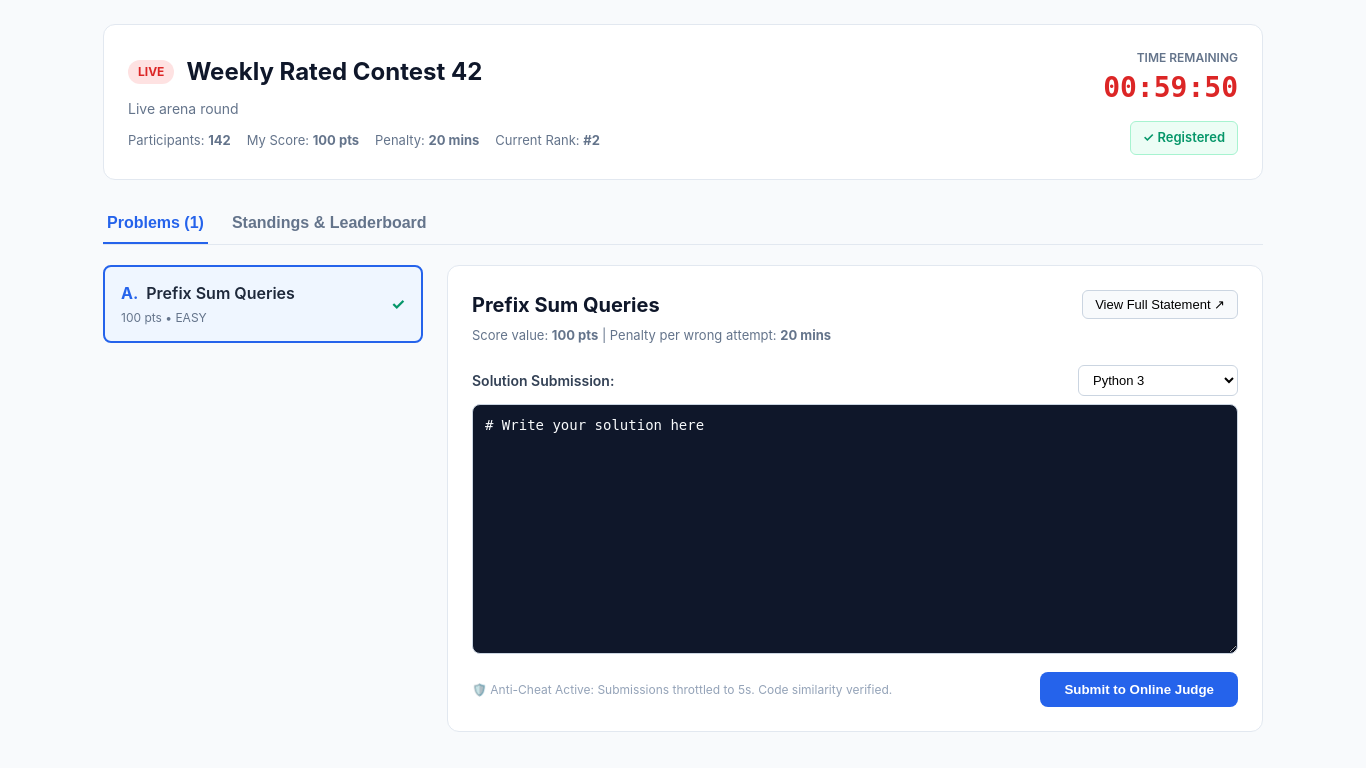
Test case: DSAapp Phase 8 Contests, Interview, CP, SQL & OOP UI › renders ContestDetailPage with problem list, countdown timer, and standings
Expected: the text "Prefix Sum Queries" is shown, [146,282,295,302]
Expected: the text "Score value: 100 pts | Penalty per wrong attempt: 20 mins" is shown, [472,326,831,345]
Note: Check switching to Standings tab
Step 1. Click the button "Standings & Leaderboard" → coordinates (329, 224), box [228,204,431,244]
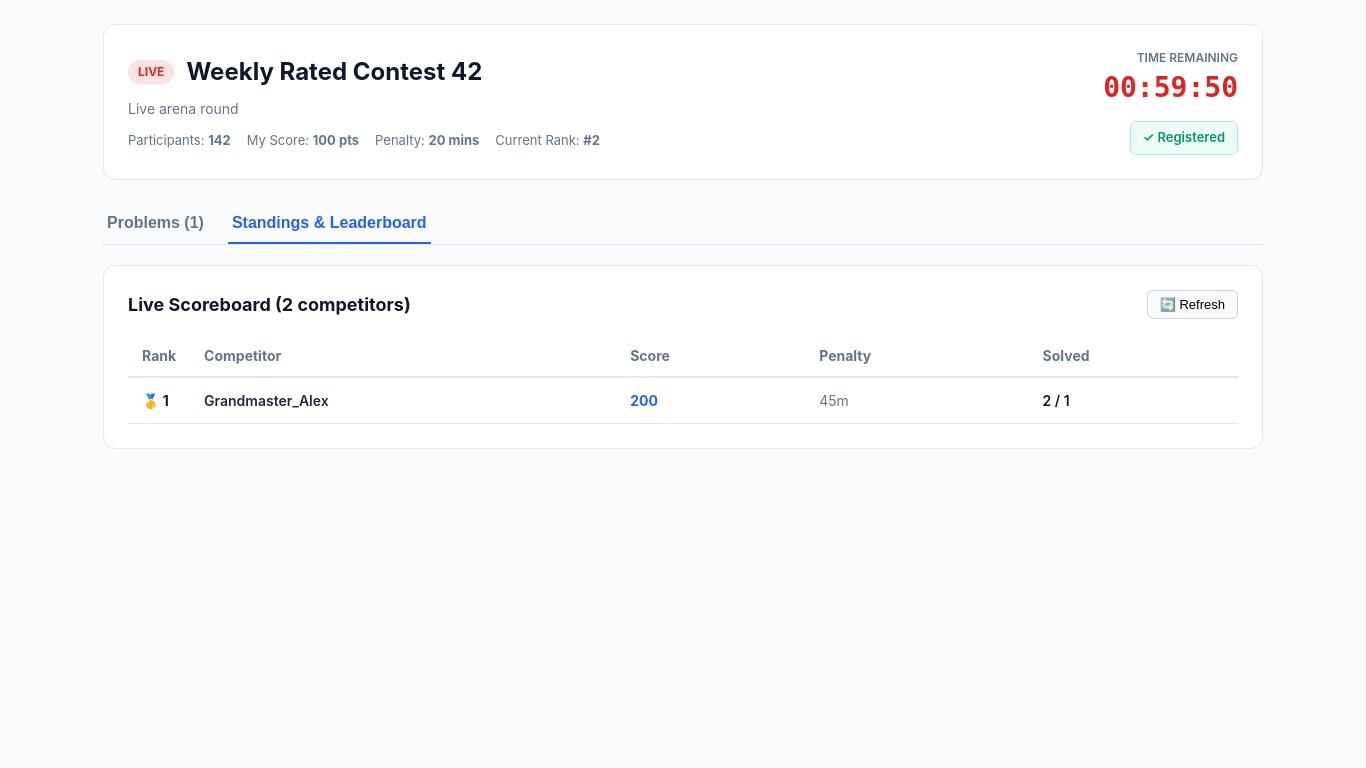
Result: the text "Grandmaster_Alex" is shown at [190,376,616,423]
